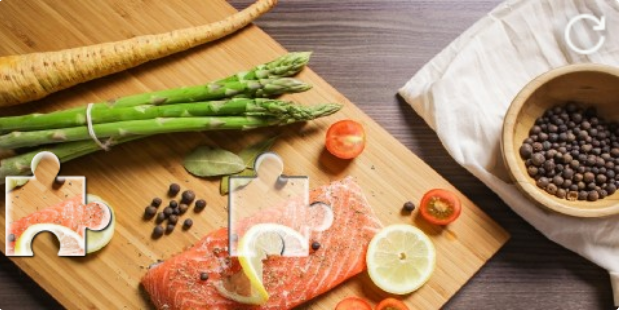target: (229, 152, 333, 256)
